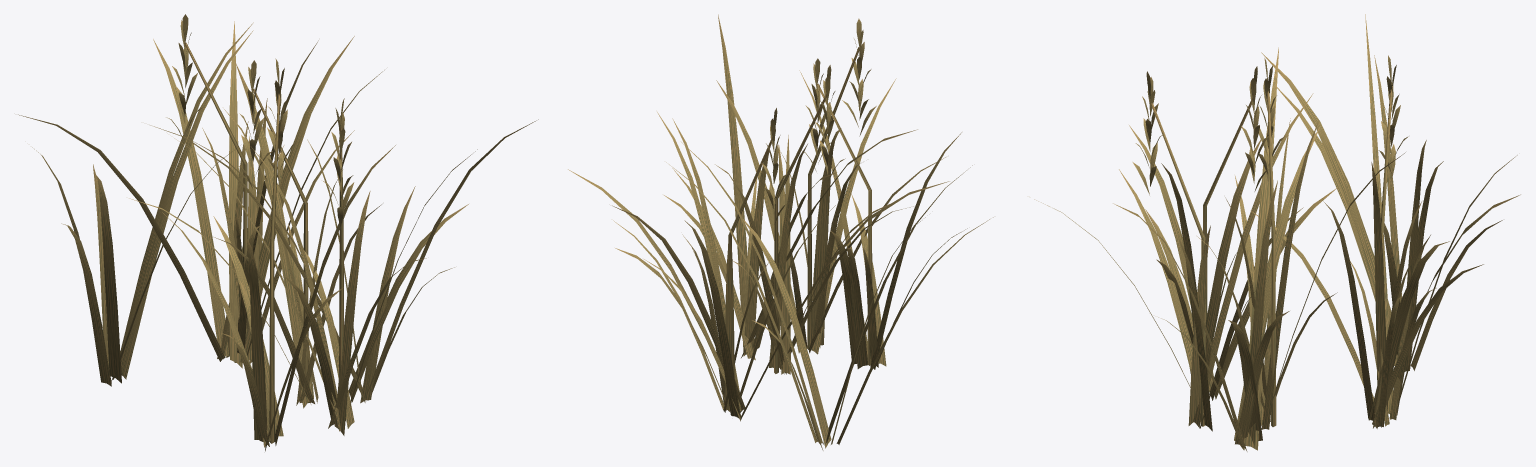
Rendered from DryBrome_A.fbx.
3 views of the same model, side by side, from view 1: azimuth 30°, elevation 25°; view 2: azimuth 150°, elevation 25°; view 3: azimuth 270°, elevation 25° (orthographic). The views are drawn at different scales.
Visible parts, largest first — view 1: DryBrome_A_LOD0; view 2: DryBrome_A_LOD0; view 3: DryBrome_A_LOD0.
Part boxes in pixels (x1,y1,x2,y2): DryBrome_A_LOD0: [18, 14, 538, 451]; DryBrome_A_LOD0: [568, 14, 993, 450]; DryBrome_A_LOD0: [1034, 14, 1520, 451].
Size of what is drawn, in the model's own units: 32.14 by 28.01 by 36.3.
Materials: 1 (1 with a texture image).
